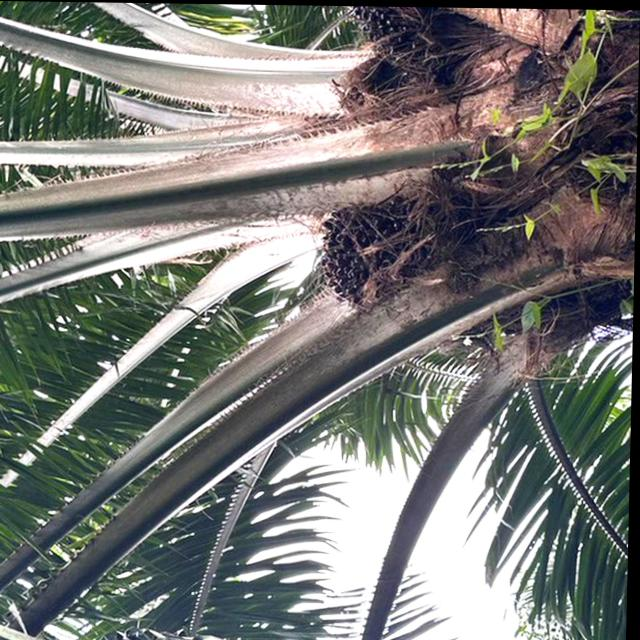ripe: (305, 183, 421, 312)
